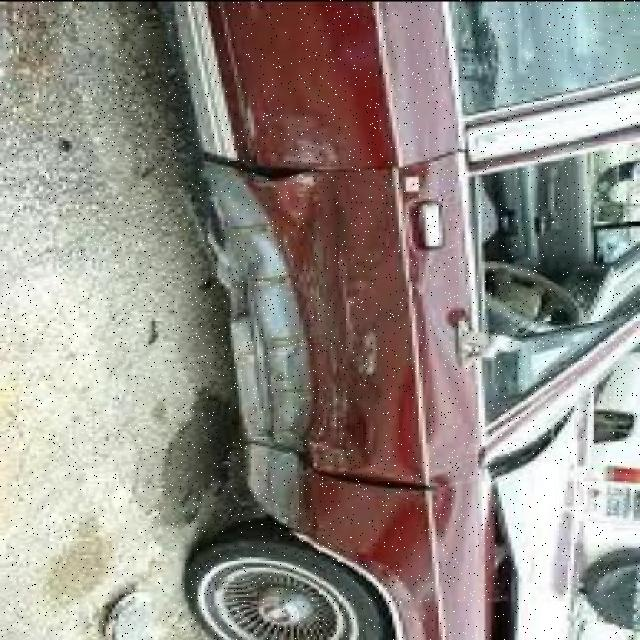damage: (199, 128, 519, 639)
